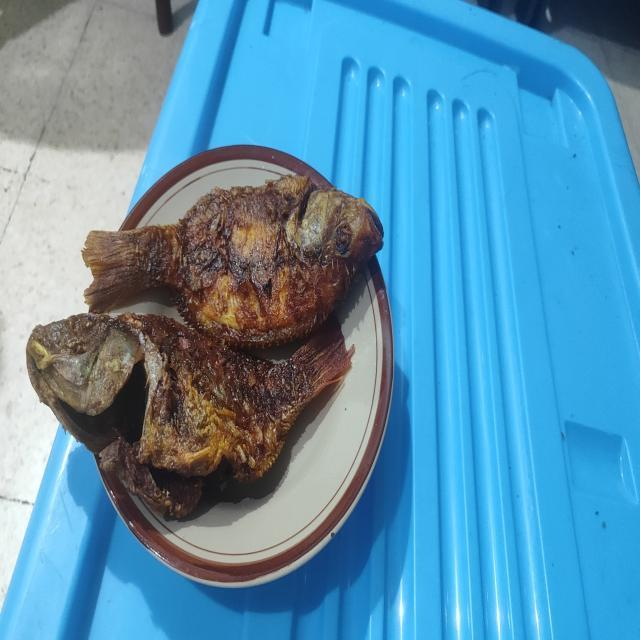ikan_mujair: (27, 313, 354, 518), (82, 174, 383, 348)
